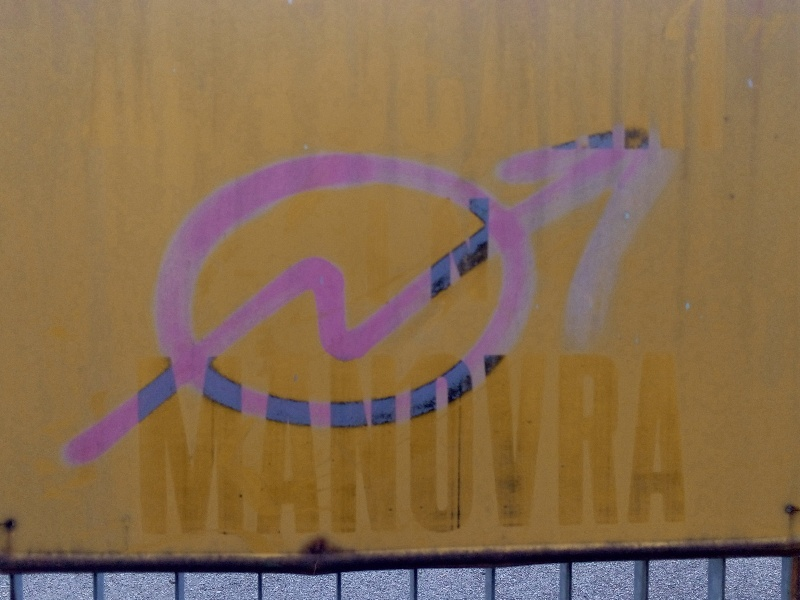text: (145, 342, 160, 541), (161, 342, 176, 541), (177, 342, 192, 541), (193, 342, 208, 541), (209, 342, 224, 541), (225, 342, 240, 541), (241, 342, 256, 541), (257, 342, 272, 541), (273, 342, 288, 541), (289, 342, 304, 541), (305, 342, 320, 541), (321, 342, 336, 541), (337, 342, 352, 541), (353, 342, 368, 541), (369, 342, 384, 541), (385, 342, 400, 541), (401, 342, 416, 541), (417, 342, 432, 541), (433, 342, 448, 541), (449, 342, 464, 541), (465, 342, 480, 541), (481, 342, 496, 541), (497, 342, 512, 541), (513, 342, 528, 541), (529, 342, 544, 541), (545, 342, 560, 541), (561, 342, 576, 541), (577, 342, 592, 541), (593, 342, 608, 541), (609, 342, 624, 541), (625, 342, 640, 541), (641, 342, 656, 541), (657, 342, 672, 541), (673, 342, 688, 541), (134, 342, 144, 541), (689, 342, 696, 541)
